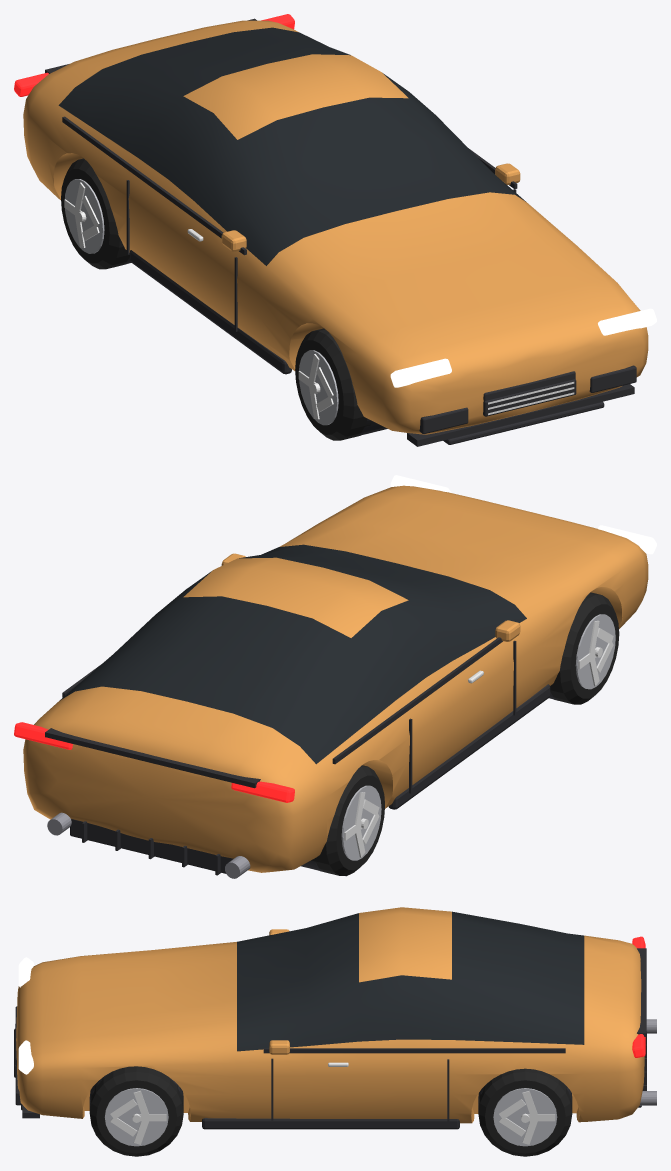
3 renders of one model, top to bottom at view 1: azimuth 30°, elevation 25°; view 2: azimuth 150°, elevation 25°; view 3: azimuth 270°, elevation 25°, orthographic. The views are drawn at different scales.
Parts seen in each view (by area): view 1: body, wheel_fr, wheel_rr, sill, lip, light_f, duct, belt_trim, grille_bg, splitter, mirror, grille (+1 smaller); view 2: body, wheel_fr, wheel_rr, diffuser, sill, spoiler, light_r, belt_trim, light_f; view 3: body, wheel_fl, wheel_rl, sill, belt_trim, light_f, spoiler, light_r, mirror.
Boxes of the visible parts, <box> form: body: <box>23,20,648,434</box>; wheel_fr: <box>295,328,371,440</box>; wheel_rr: <box>61,158,129,269</box>; sill: <box>130,250,291,374</box>; lip: <box>407,384,634,446</box>; light_f: <box>390,308,656,387</box>; duct: <box>419,365,636,433</box>; belt_trim: <box>62,116,517,255</box>; grille_bg: <box>483,379,576,416</box>; splitter: <box>443,401,604,444</box>; mirror: <box>221,163,520,251</box>; grille: <box>483,371,575,401</box>; body: <box>23,485,648,872</box>; wheel_fr: <box>550,592,619,704</box>; wheel_rr: <box>310,765,384,876</box>; diffuser: <box>70,819,233,873</box>; sill: <box>388,684,550,809</box>; spoiler: <box>45,728,260,788</box>; light_r: <box>14,722,294,802</box>; belt_trim: <box>62,637,503,764</box>; light_f: <box>390,475,656,554</box>; body: <box>16,907,644,1123</box>; wheel_fl: <box>89,1066,183,1156</box>; wheel_rl: <box>478,1068,572,1156</box>; sill: <box>202,1118,459,1129</box>; belt_trim: <box>263,1048,565,1053</box>; light_f: <box>18,957,33,1074</box>; spoiler: <box>637,948,646,1036</box>; light_r: <box>632,936,645,1057</box>; mirror: <box>269,929,289,1054</box>.
Size of the model in its own units: 1.89 by 1.3 by 4.38.
